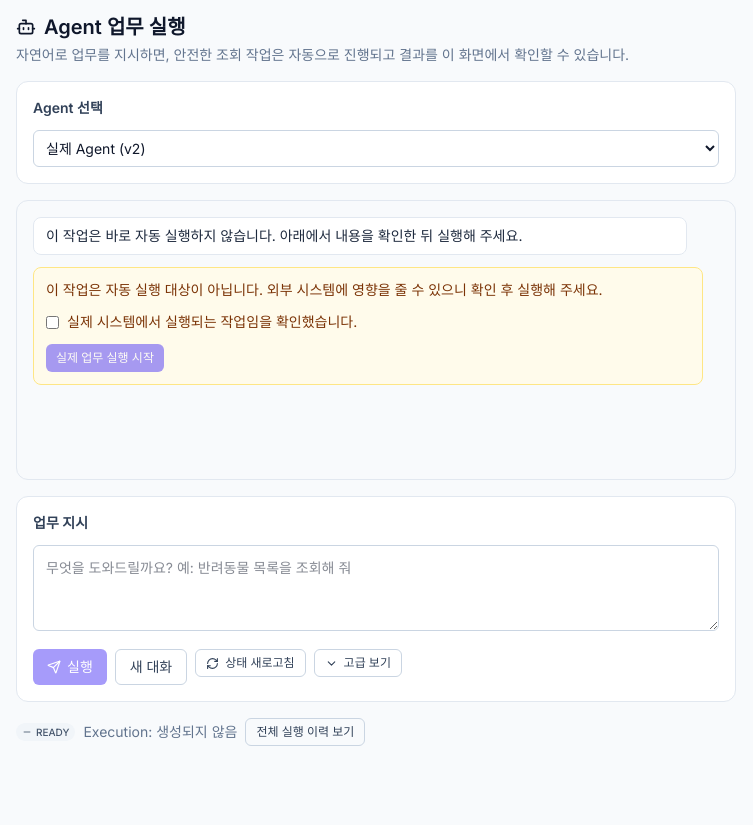
Test: AgentRunLive — chat phase 1 › does not auto-retry ambiguous Execution creation errors
The image size is (753, 825).
Click the checkbox labelled "실제 시스템에서 실행되는 작업임을 확인했습니다.". click: (52, 322)
box: left=46, top=316, right=59, bottom=329
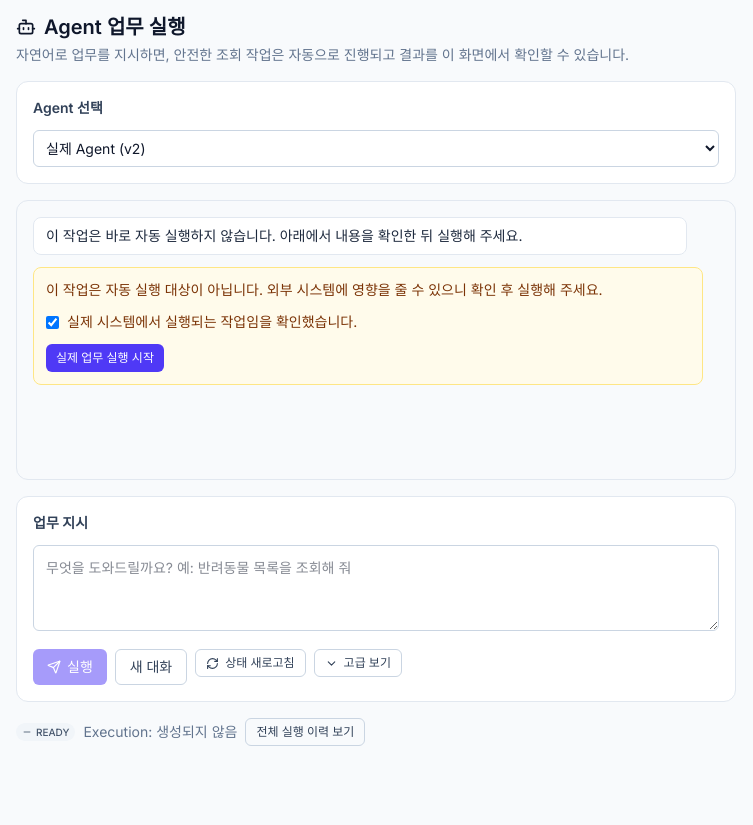
Click the button "실제 업무 실행 시작". click: (105, 358)
box: left=46, top=344, right=164, bottom=372
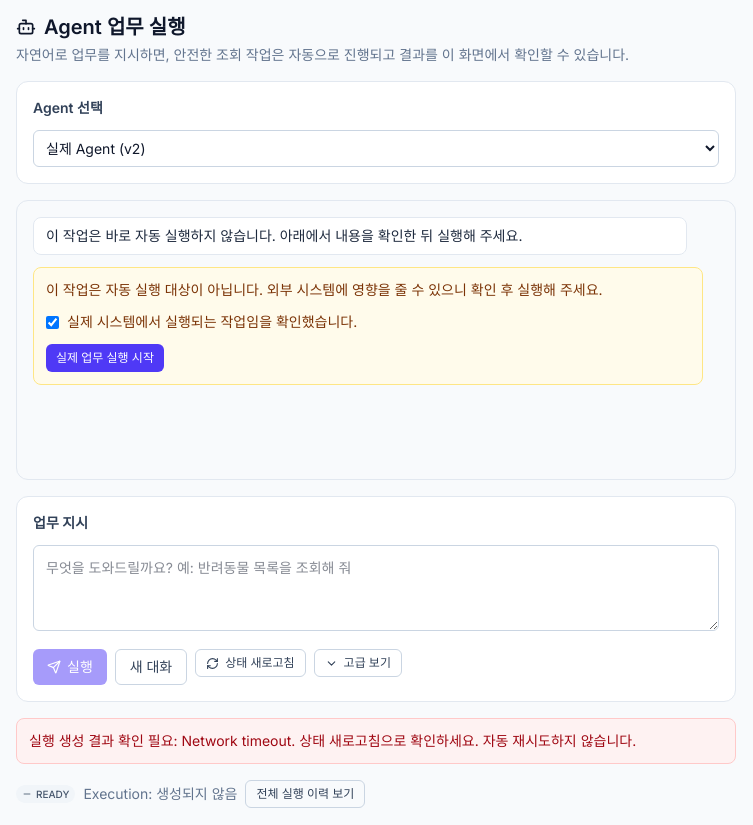
Expected: the message shows "자동 재시도하지 않습니다", left=29, top=732, right=636, bottom=749
